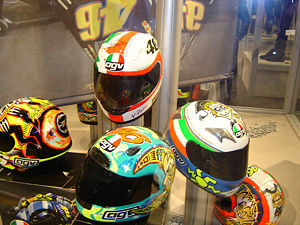with_helmet: (76, 125, 176, 221), (164, 100, 250, 197), (89, 28, 166, 124), (1, 93, 74, 176)
